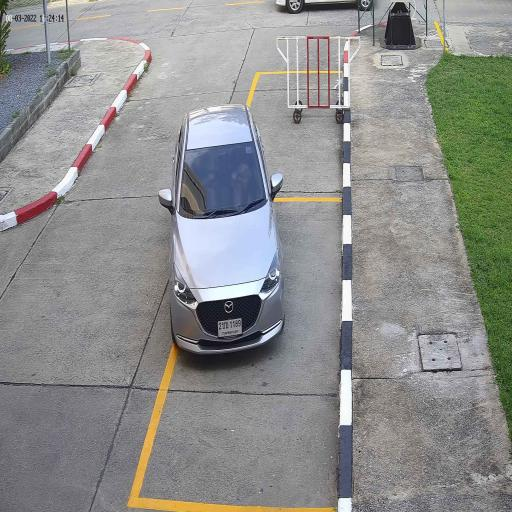car: (168, 102, 286, 356)
